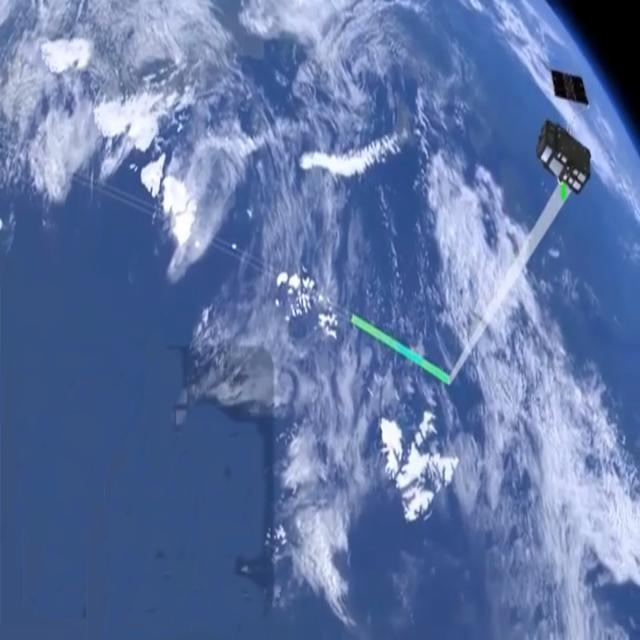satellite: (532, 119, 594, 205), (550, 66, 592, 106)
